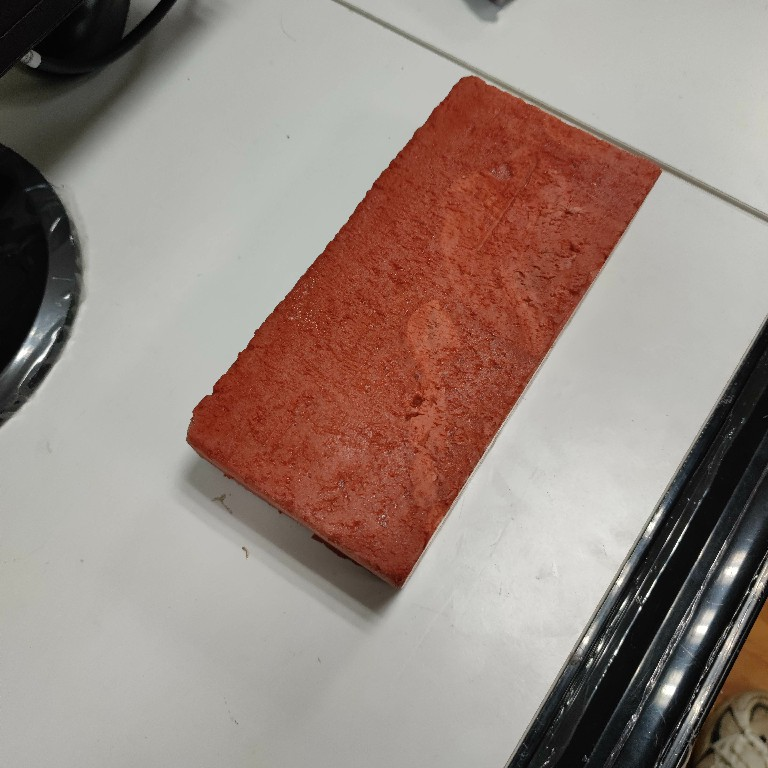brick: (179, 66, 668, 594)
